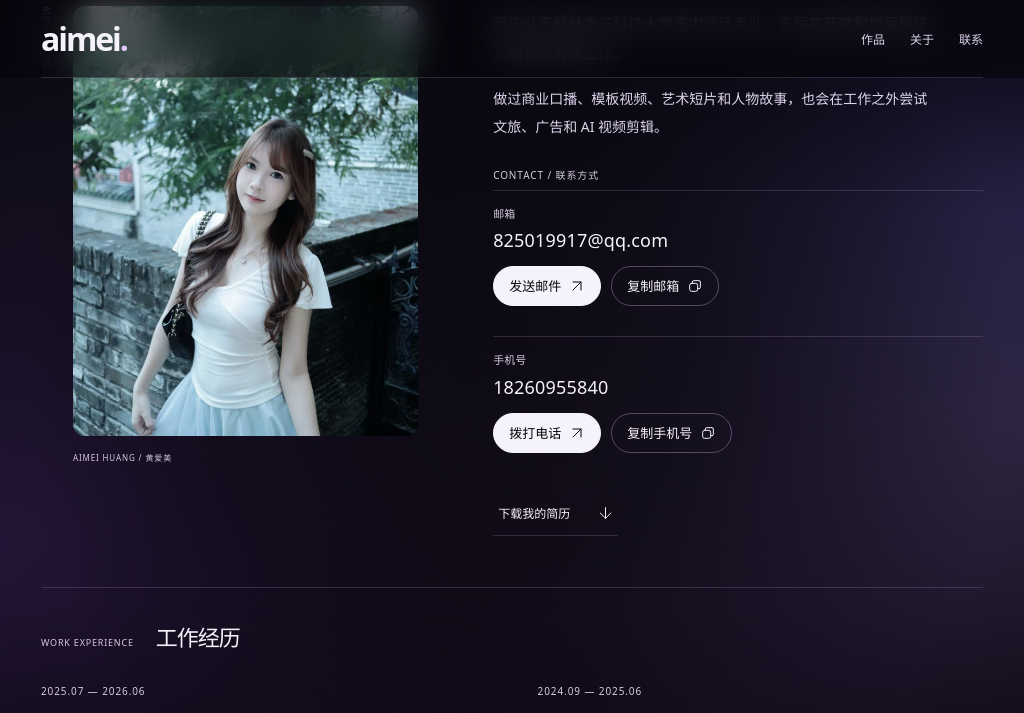
Test: 求职联系 › 手机复制受阻时选中正确号码供手动复制
The image size is (1024, 713).
(page scrolled)
Click the button "复制手机号" at x=672, y=433, box [611, 413, 732, 453]
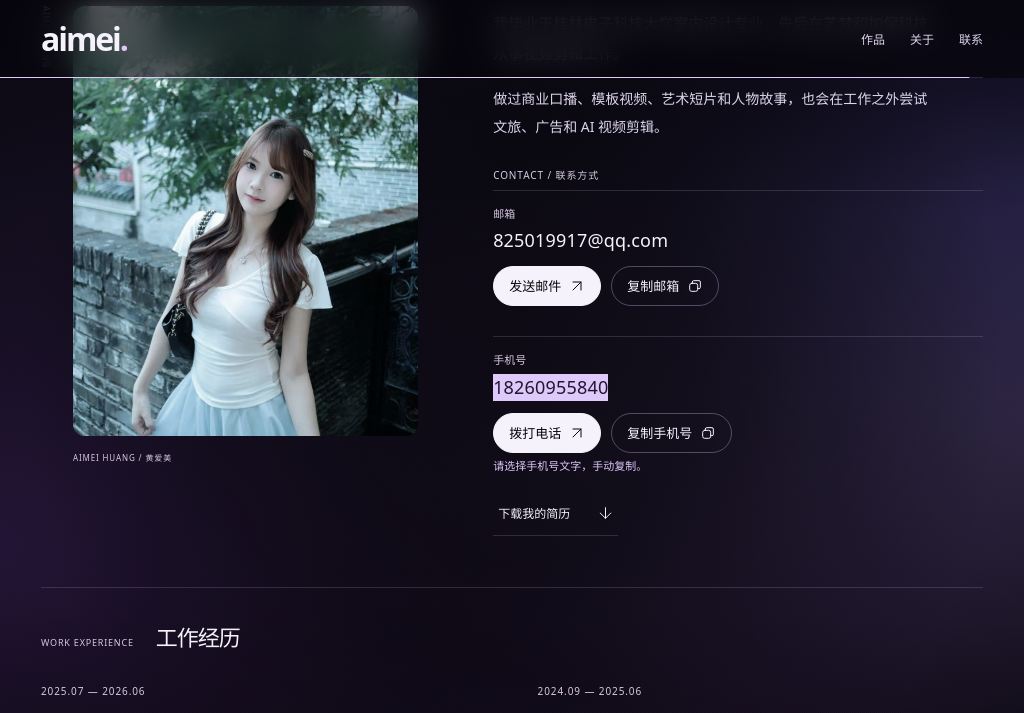
Expected: the text "请选择手机号文字，手动复制。" is shown, [493, 458, 647, 473]
